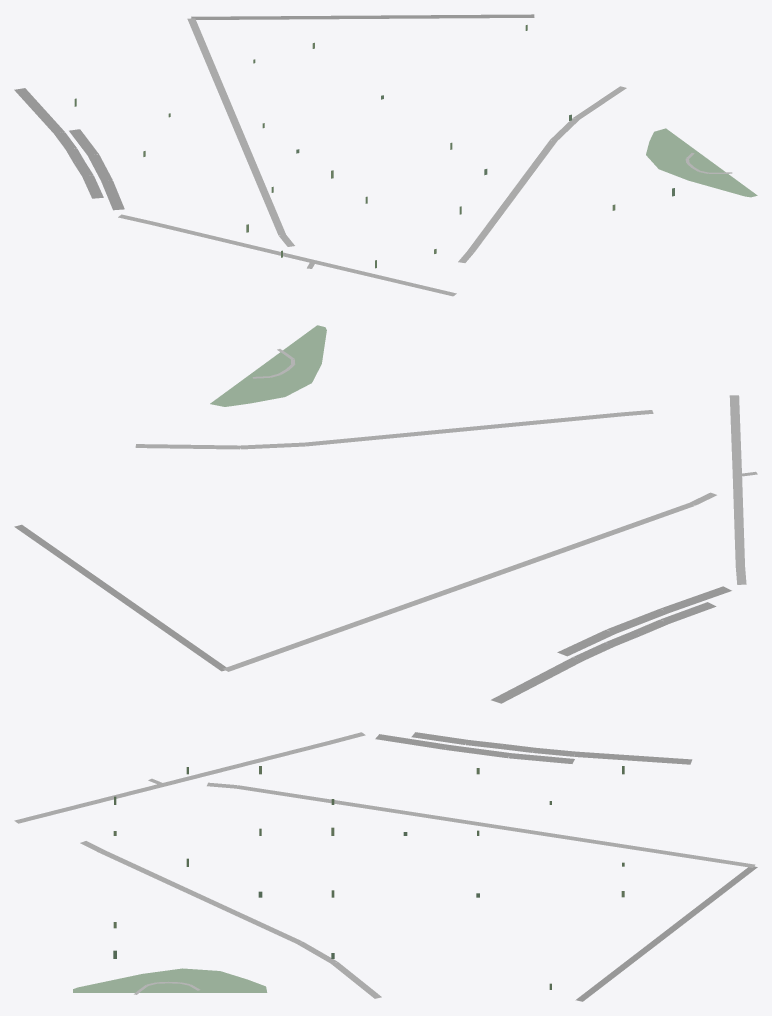
The picture shows the model from 3 angles, top to bottom: view 1: azimuth 30°, elevation 25°; view 2: azimuth 150°, elevation 25°; view 3: azimuth 270°, elevation 25°; orthographic projection. The views are drawn at different scales.
Size of the model in its own units: 526 by 8.84 by 615.
